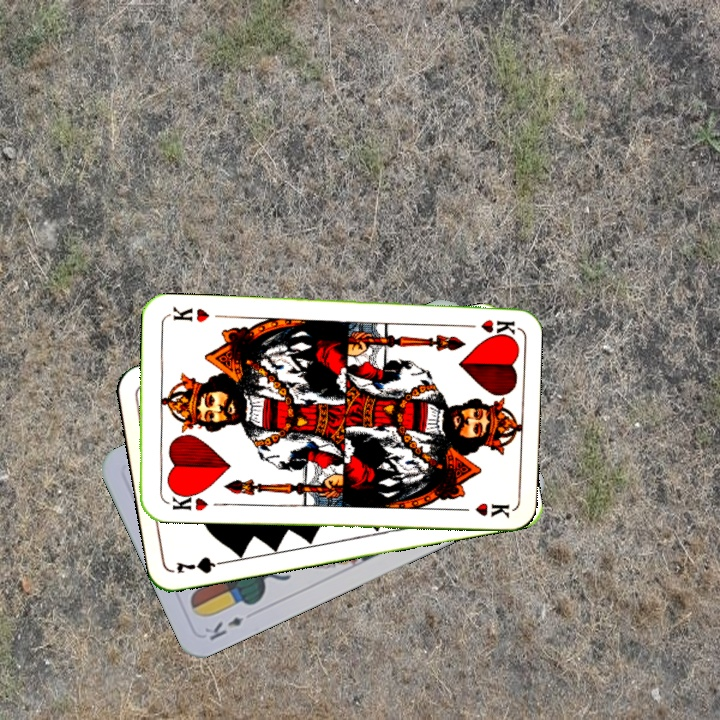EK: (200, 613, 246, 643)
G7: (172, 552, 231, 576)
HK: (457, 315, 516, 337), (167, 487, 211, 514)
